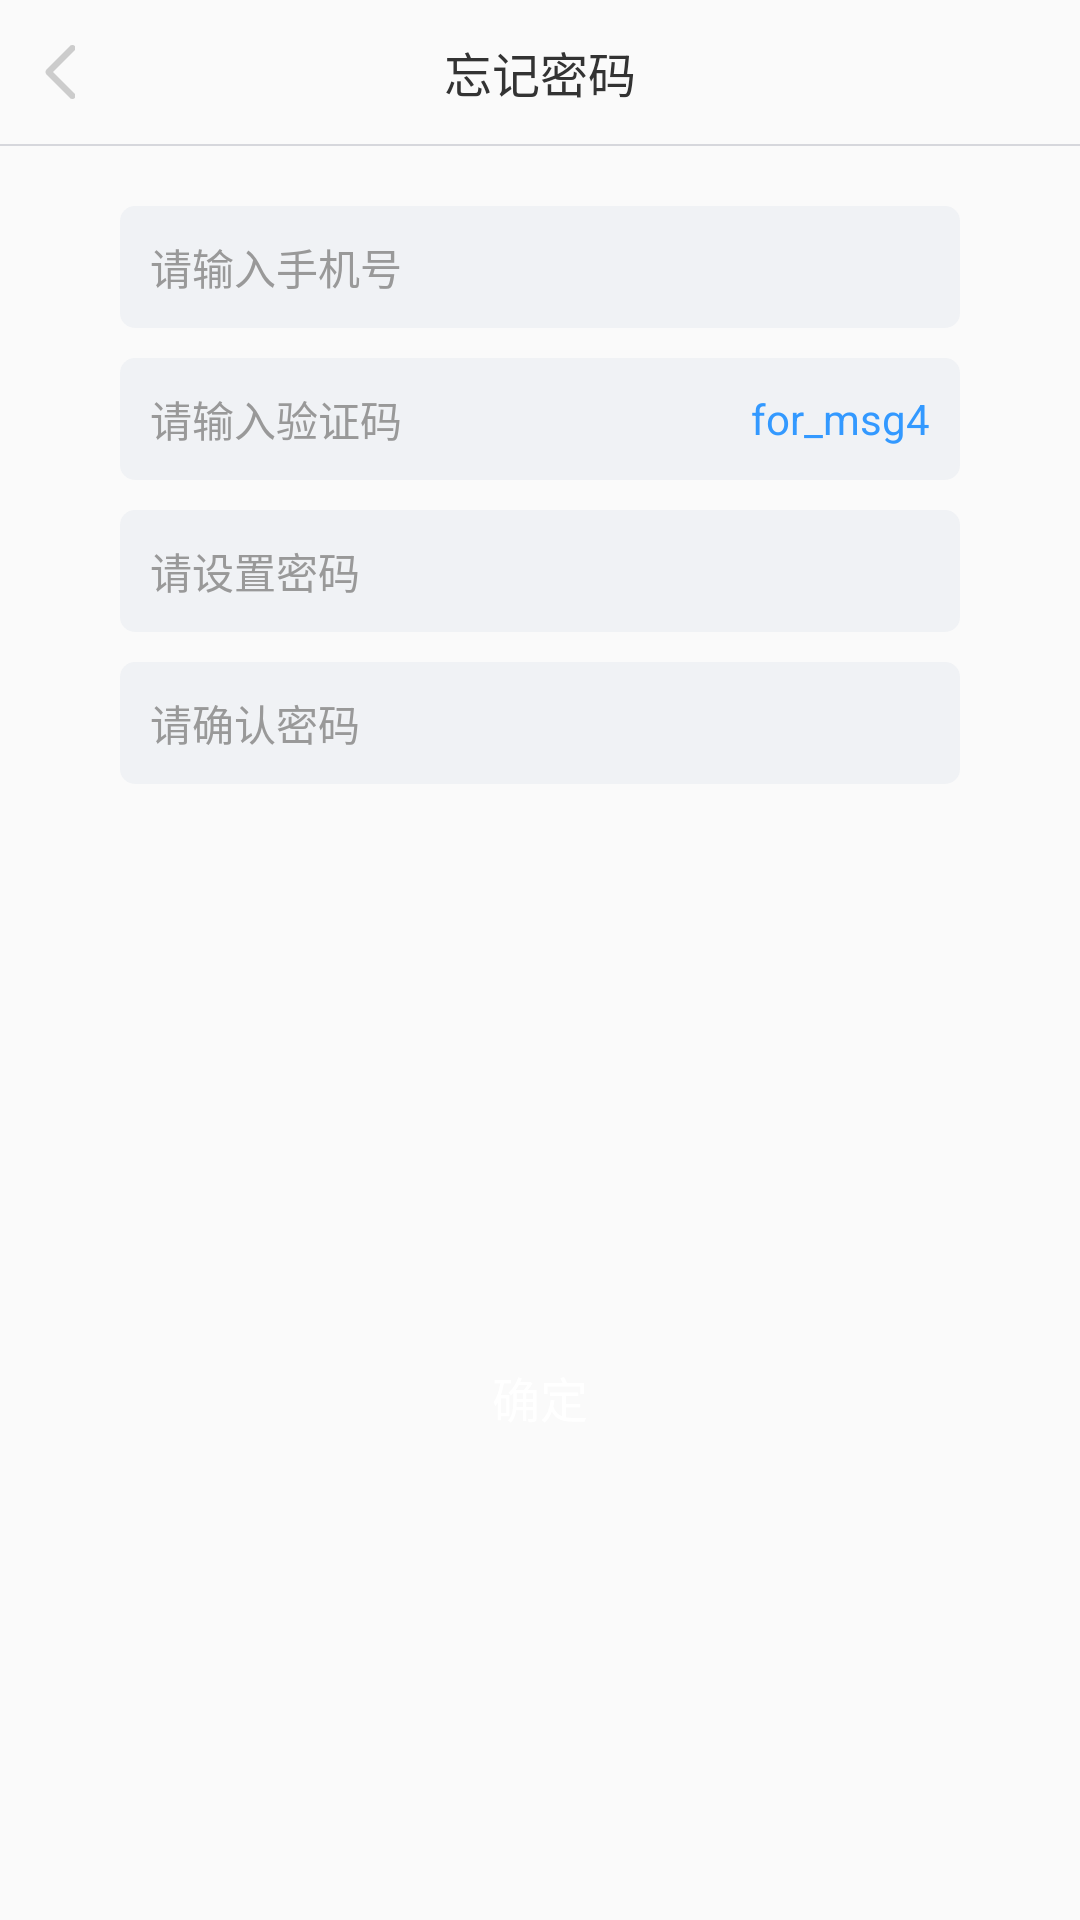

Icon bounding boxes for this 1080x1920 phone screenshot, format (x1, y1, x2, y2):
back: (46, 45, 75, 99)
